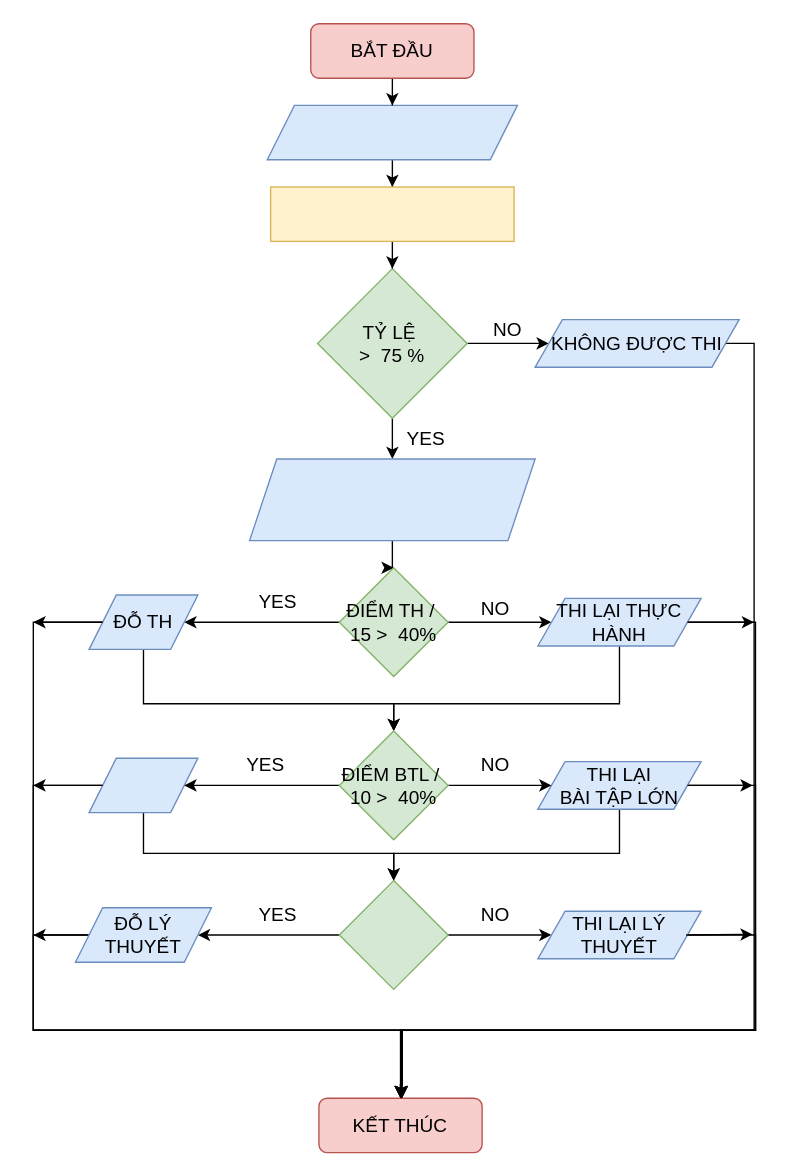
This 790x1176 diagram has some shape labels left out. The shapes that lost their labels are listed below. From the top down, each one's centre as x and y in pixels, then its label:
At point (391, 132): "SỐ BUỔI ĐI HỌC SỐ BUỔI HỌC TỔNG".
At point (391, 213): "TỶ LỆ = SỐ BUỔI ĐI HỌC/ TỔNG SỐ BUỔI".
At point (391, 499): "NHẬP ĐIỂM LÝ THUYẾT THỰC HÀNH BÀI TẬP LỚN".
At point (143, 785): "ĐỖ BTL".
At point (393, 934): "ĐIỂM LT / 20 > 40%".
